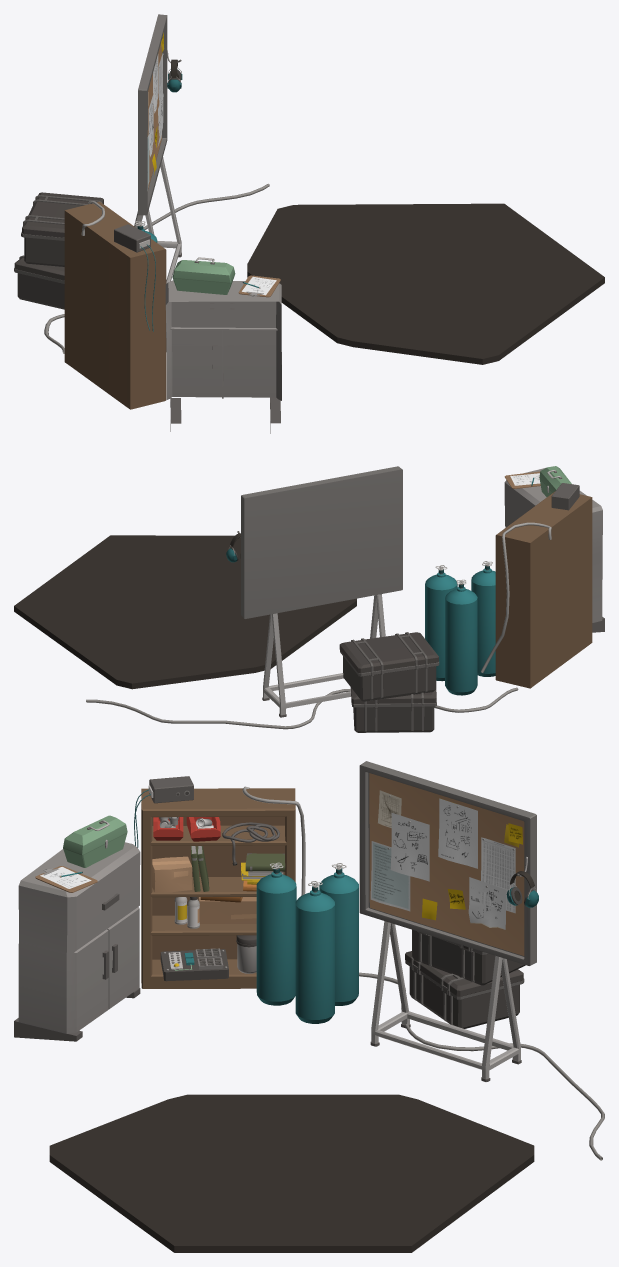
Rendered from RoomAssets.fbx.
3 renders of one model, top to bottom at view 1: azimuth 30°, elevation 25°; view 2: azimuth 150°, elevation 25°; view 3: azimuth 270°, elevation 25°, orthographic. The views are drawn at different scales.
Parts seen in each view (by area): view 1: Cube.010, Cube.226, largeToolBox00, Cylinder.137, BatteryCase_Base.002, BatteryCase_Lid.001, smallToolBox00, Cube.266, BezierCurve.006; view 2: Cube.010, Cylinder.137, Cube.226, BatteryCase_Base.002, Cylinder.031, BatteryCase_Lid.001, largeToolBox00, Cylinder.065, Cylinder.134, BezierCurve.006, BezierCurve.005, Cube.266 (+1 smaller); view 3: Cube.010, Cylinder.137, largeToolBox00, Cube.226, Cylinder.065, Cylinder.134, BatteryCase_Lid.001, Cylinder.031, BatteryCase_Base.002, Cylinder.141, Cylinder.143, smallToolBox00 (+15 smaller).
Part boxes in pixels (x1,y1,x2,y2): Cube.010: (247,203,604,364); Cube.226: (64,201,166,409); largeToolBox00: (165,280,281,433); Cylinder.137: (134,14,181,283); BatteryCase_Base.002: (21,192,103,266); BatteryCase_Lid.001: (14,255,64,309); smallToolBox00: (172,257,235,294); Cube.266: (114,224,150,252); BezierCurve.006: (44,183,269,353); Cube.010: (14,535,356,689); Cylinder.137: (241,466,402,717); Cube.226: (495,491,592,688); BatteryCase_Base.002: (339,632,439,701); Cylinder.031: (445,579,477,695); BatteryCase_Lid.001: (350,687,436,732); largeToolBox00: (504,468,604,632); Cylinder.065: (471,561,495,676); Cylinder.134: (425,565,457,681); BezierCurve.006: (86,687,518,729); BezierCurve.005: (481,522,551,672); Cube.266: (551,483,579,510); Cube.010: (49,1094,534,1252); Cylinder.137: (359,761,536,1081); largeToolBox00: (14,842,140,1041); Cube.226: (141,788,295,988); Cylinder.065: (256,862,296,1005); Cylinder.134: (295,881,334,1023); BatteryCase_Lid.001: (405,951,524,1028); Cylinder.031: (319,863,358,1005); BatteryCase_Base.002: (412,929,525,985); Cylinder.141: (438,798,477,868); Cylinder.143: (390,813,429,881); smallToolBox00: (63,815,127,867).
Size of the model in its own units: 2.99 by 1.38 by 2.64.
